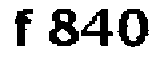0: (116, 6, 152, 49)
4: (80, 6, 114, 48)
8: (44, 5, 81, 52)
f: (6, 5, 34, 52)
